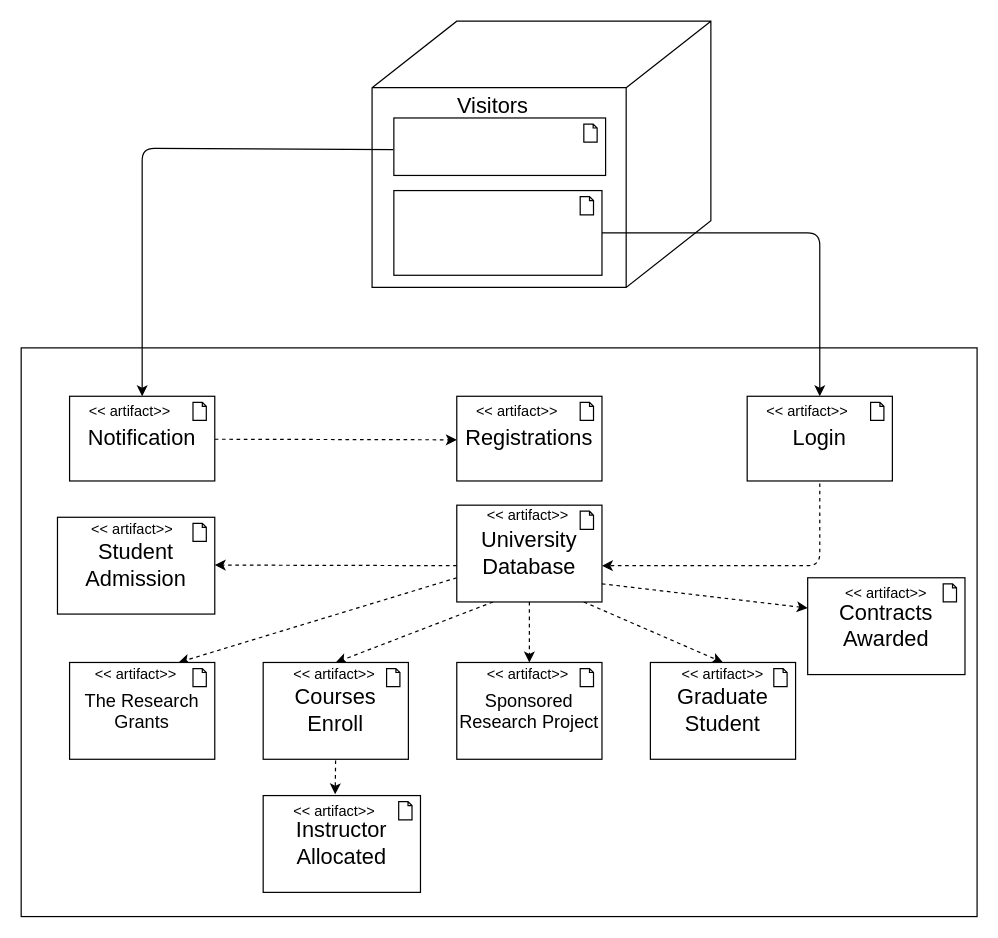
The diagram is 998 pixels wide and 938 high, and some of its shapes have lost their labels. Here are the shapes that lost their labels. From the top down, the centre of each, then its label:
At [499,146]: "Students".
At [497,232]: "Faculty as principal, investigators and all researchers".
